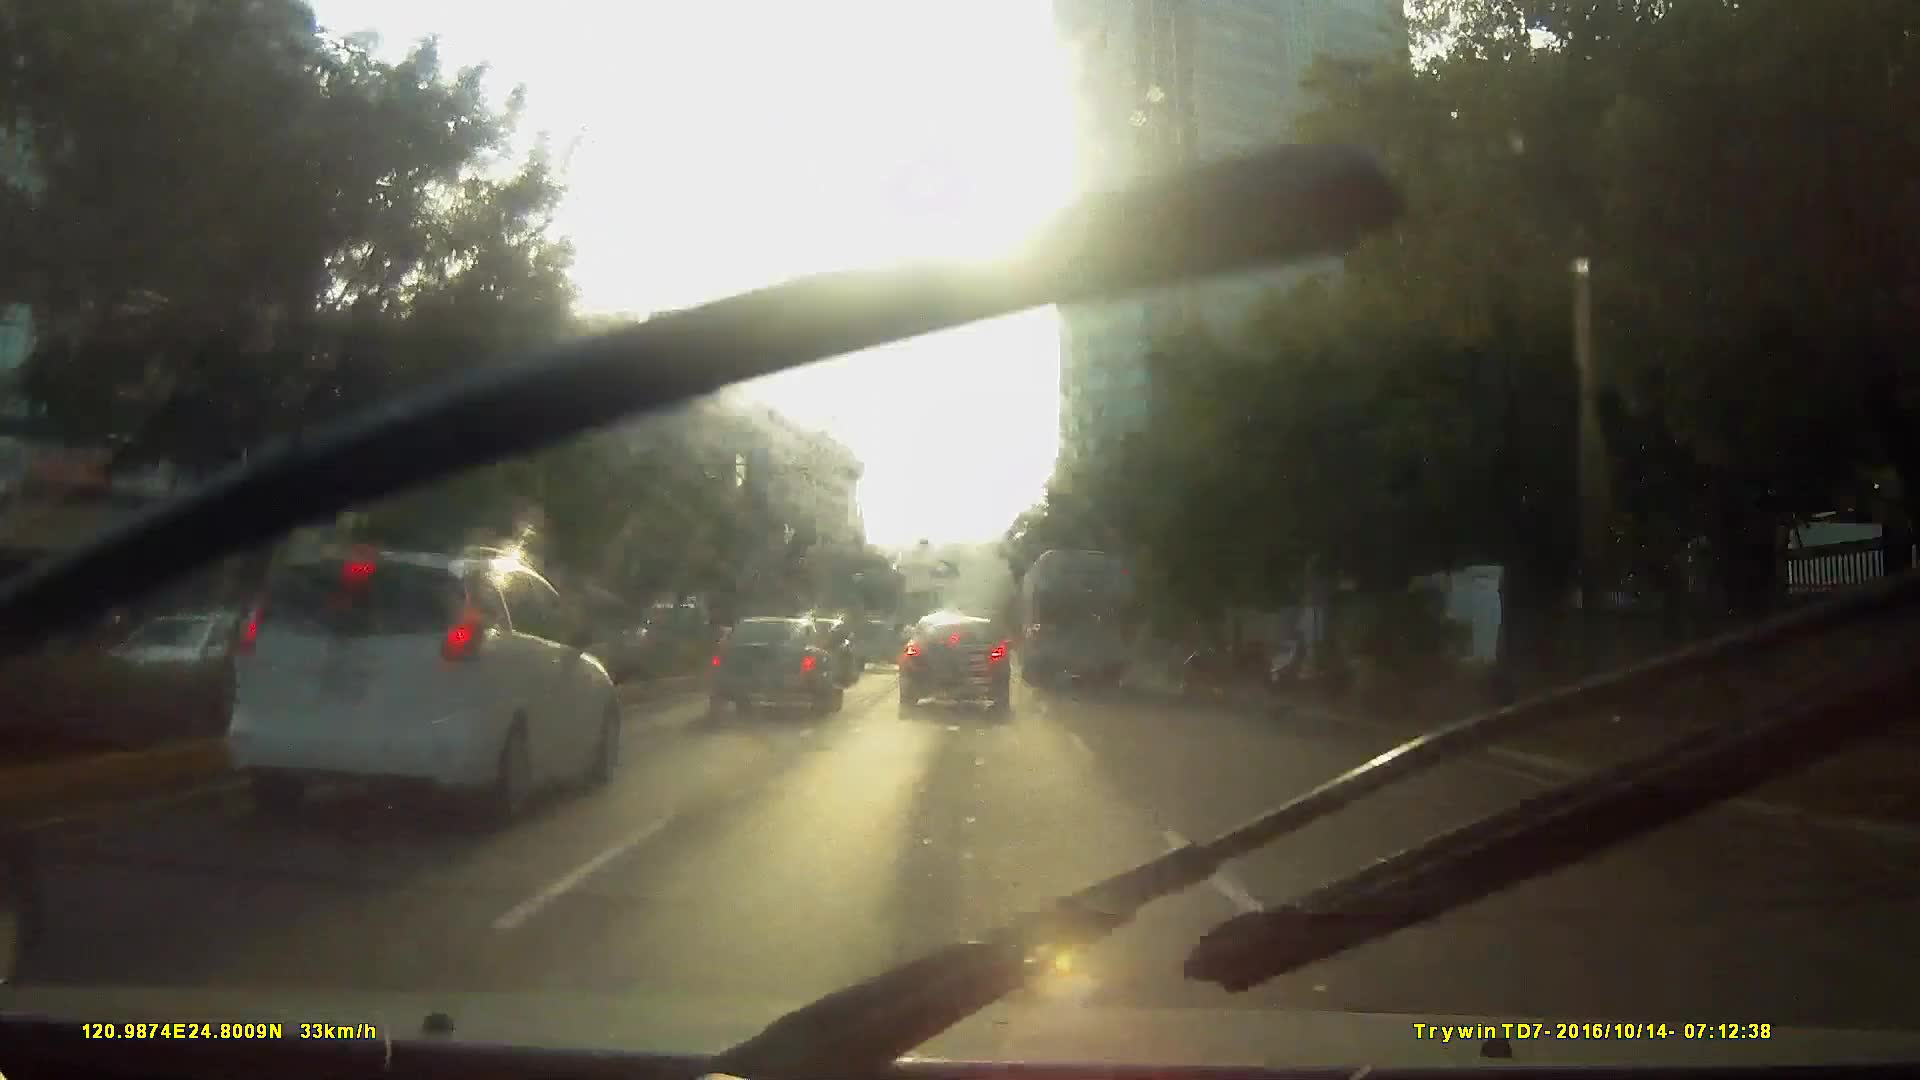vehicle: (251, 556, 684, 868), (199, 542, 630, 835), (1015, 545, 1135, 690), (702, 615, 845, 720), (895, 607, 1011, 715), (849, 615, 909, 676)
